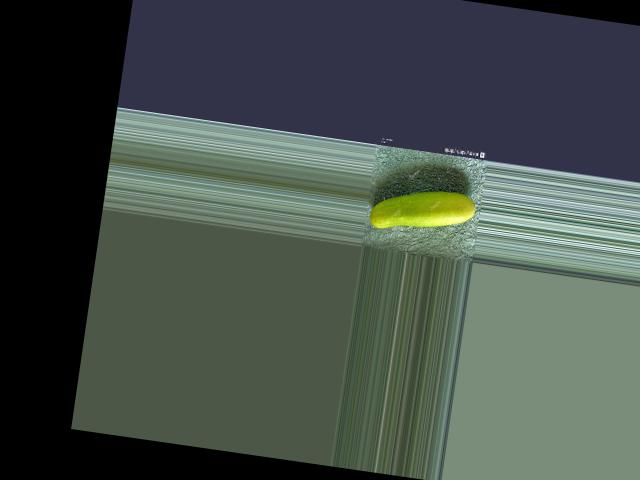cucumber: (367, 180, 476, 241)
